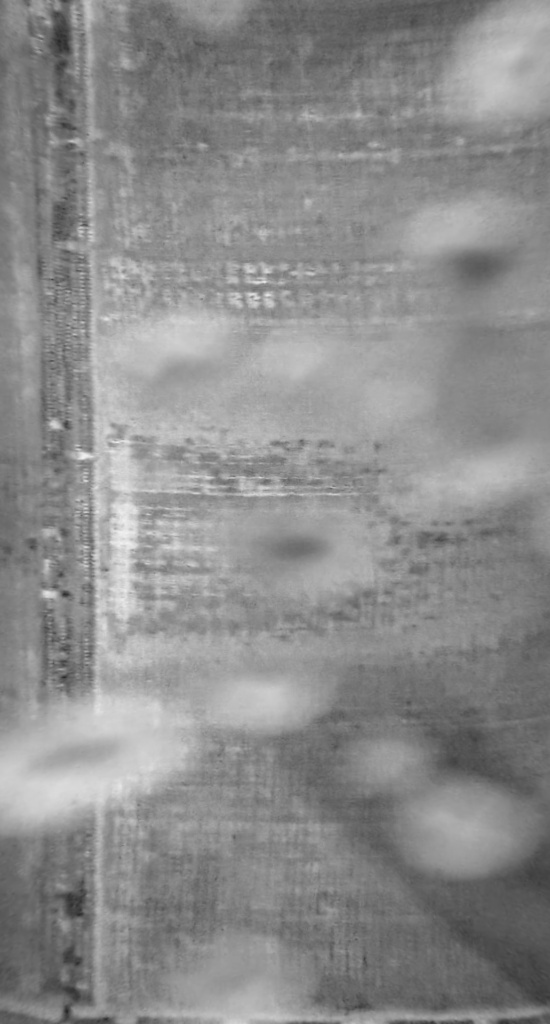splice: (18, 1, 121, 1024)
